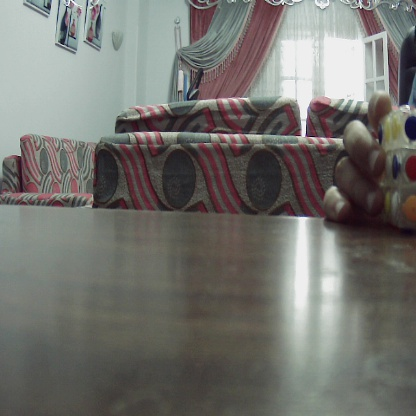Rubix Cube: (371, 109, 416, 230)
